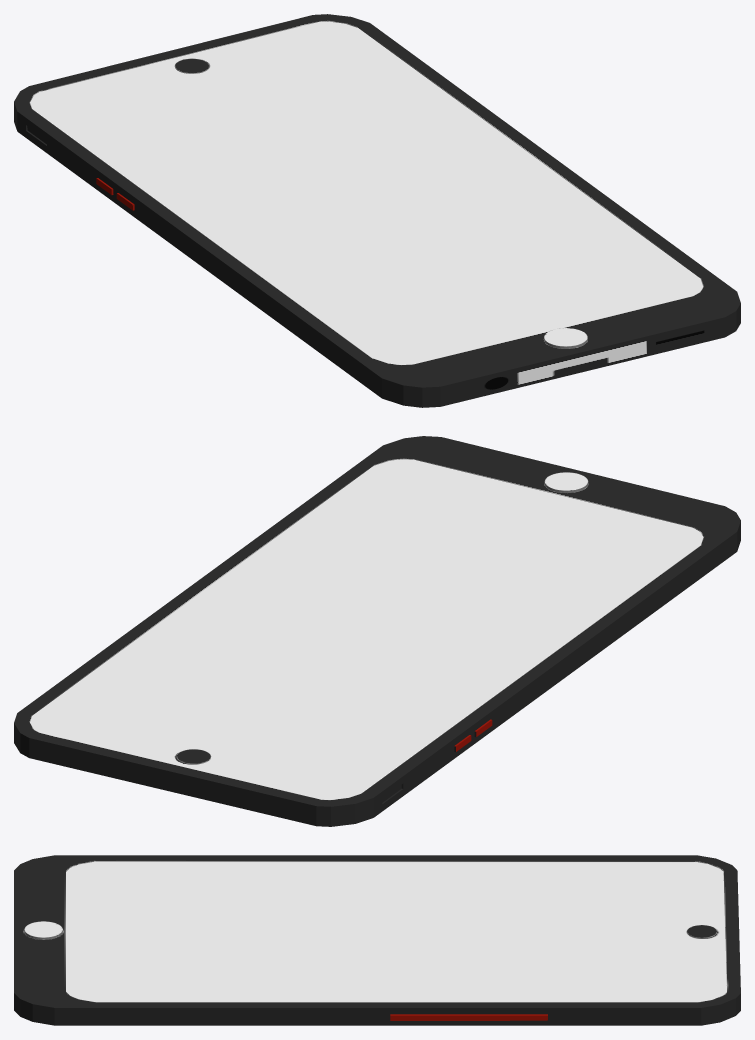
File: sum1.fbx
The picture shows the model from 3 angles, top to bottom: view 1: azimuth 30°, elevation 25°; view 2: azimuth 150°, elevation 25°; view 3: azimuth 270°, elevation 25°; orthographic projection. The views are drawn at different scales.
Parts seen in each view (by area): view 1: 柱体; view 2: 柱体; view 3: 柱体.
Part boxes in pixels (x1,y1,x2,y2): 柱体: (14,14,740,407); 柱体: (14,436,740,826); 柱体: (14,855,740,1025).
Size of the model in its own units: 404 by 24.18 by 802.
Materials: 1 (1 with a texture image).
